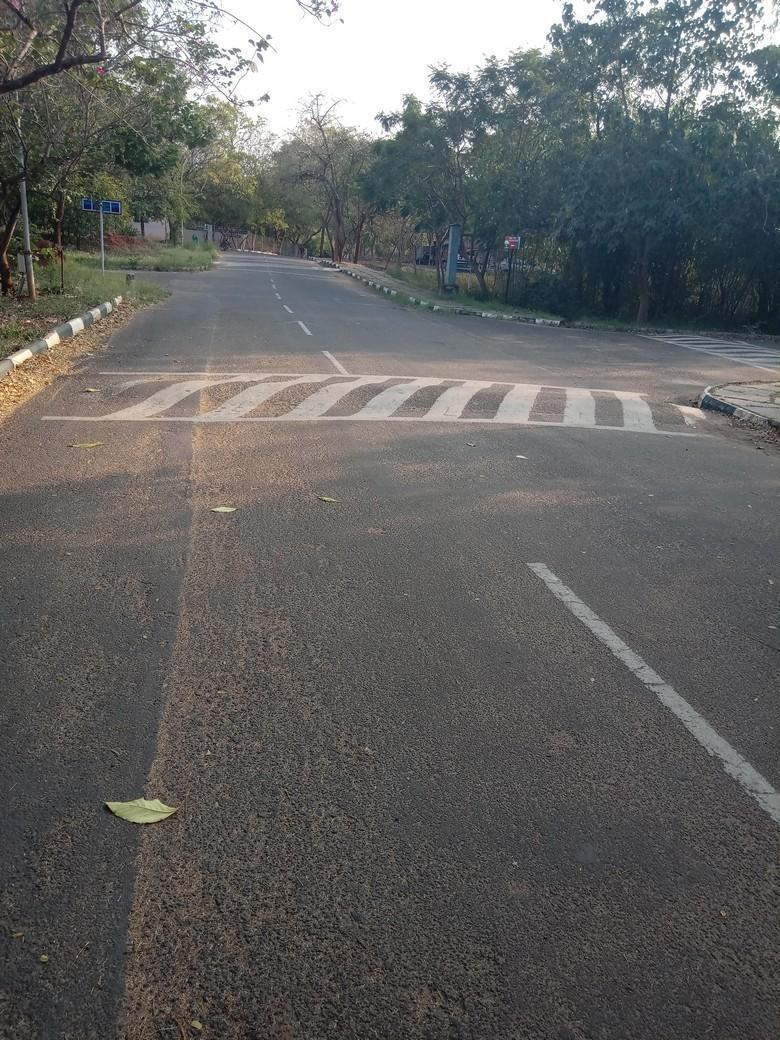speedbreaker: (34, 353, 764, 442)
